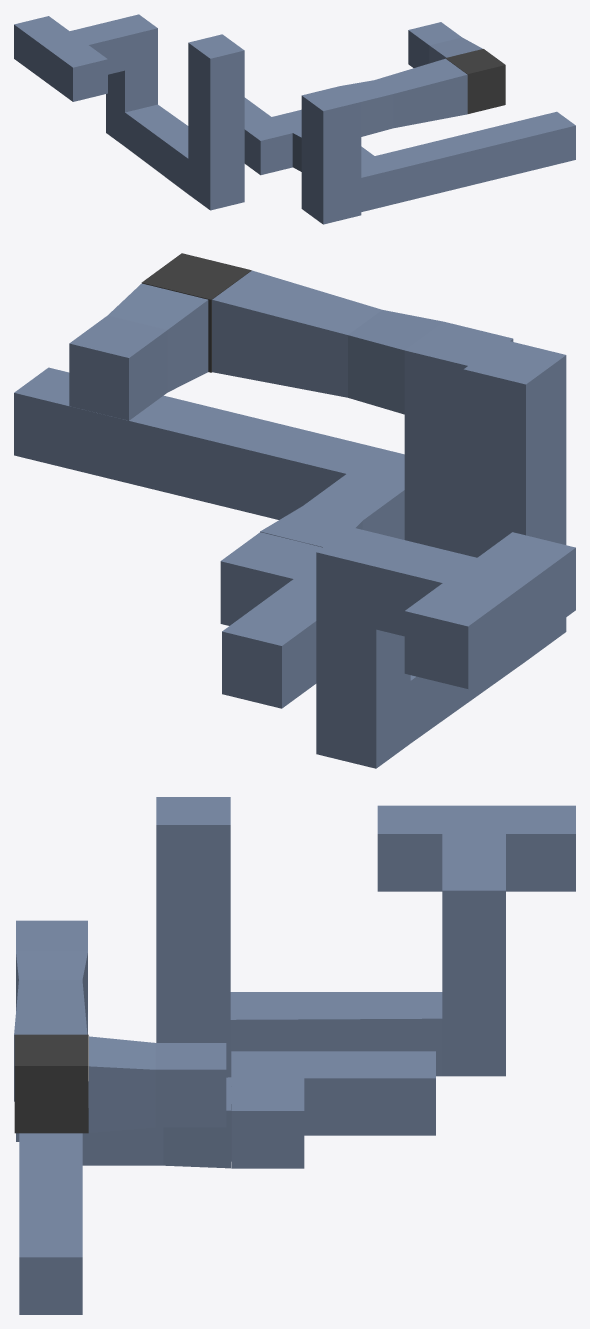
Rendered from kenttä3Collider 1.fbx.
3 renders of one model, top to bottom at view 1: azimuth 30°, elevation 25°; view 2: azimuth 150°, elevation 25°; view 3: azimuth 270°, elevation 25°, orthographic. The views are drawn at different scales.
Parts seen in each view (by area): view 1: Cube.002, Lauhdutin2.002; view 2: Cube.002, Lauhdutin2.002; view 3: Cube.002, Lauhdutin2.002.
Part boxes in pixels (x1=…): Cube.002: x1=14, y1=14, x2=575, y2=224; Lauhdutin2.002: x1=445, y1=49, x2=505, y2=113; Cube.002: x1=14, y1=270, x2=575, y2=768; Lauhdutin2.002: x1=141, y1=253, x2=251, y2=372; Cube.002: x1=14, y1=797, x2=575, y2=1314; Lauhdutin2.002: x1=14, y1=1034, x2=88, y2=1133.
Bounding box in the file's own units: 2172 × 799 × 1592.
